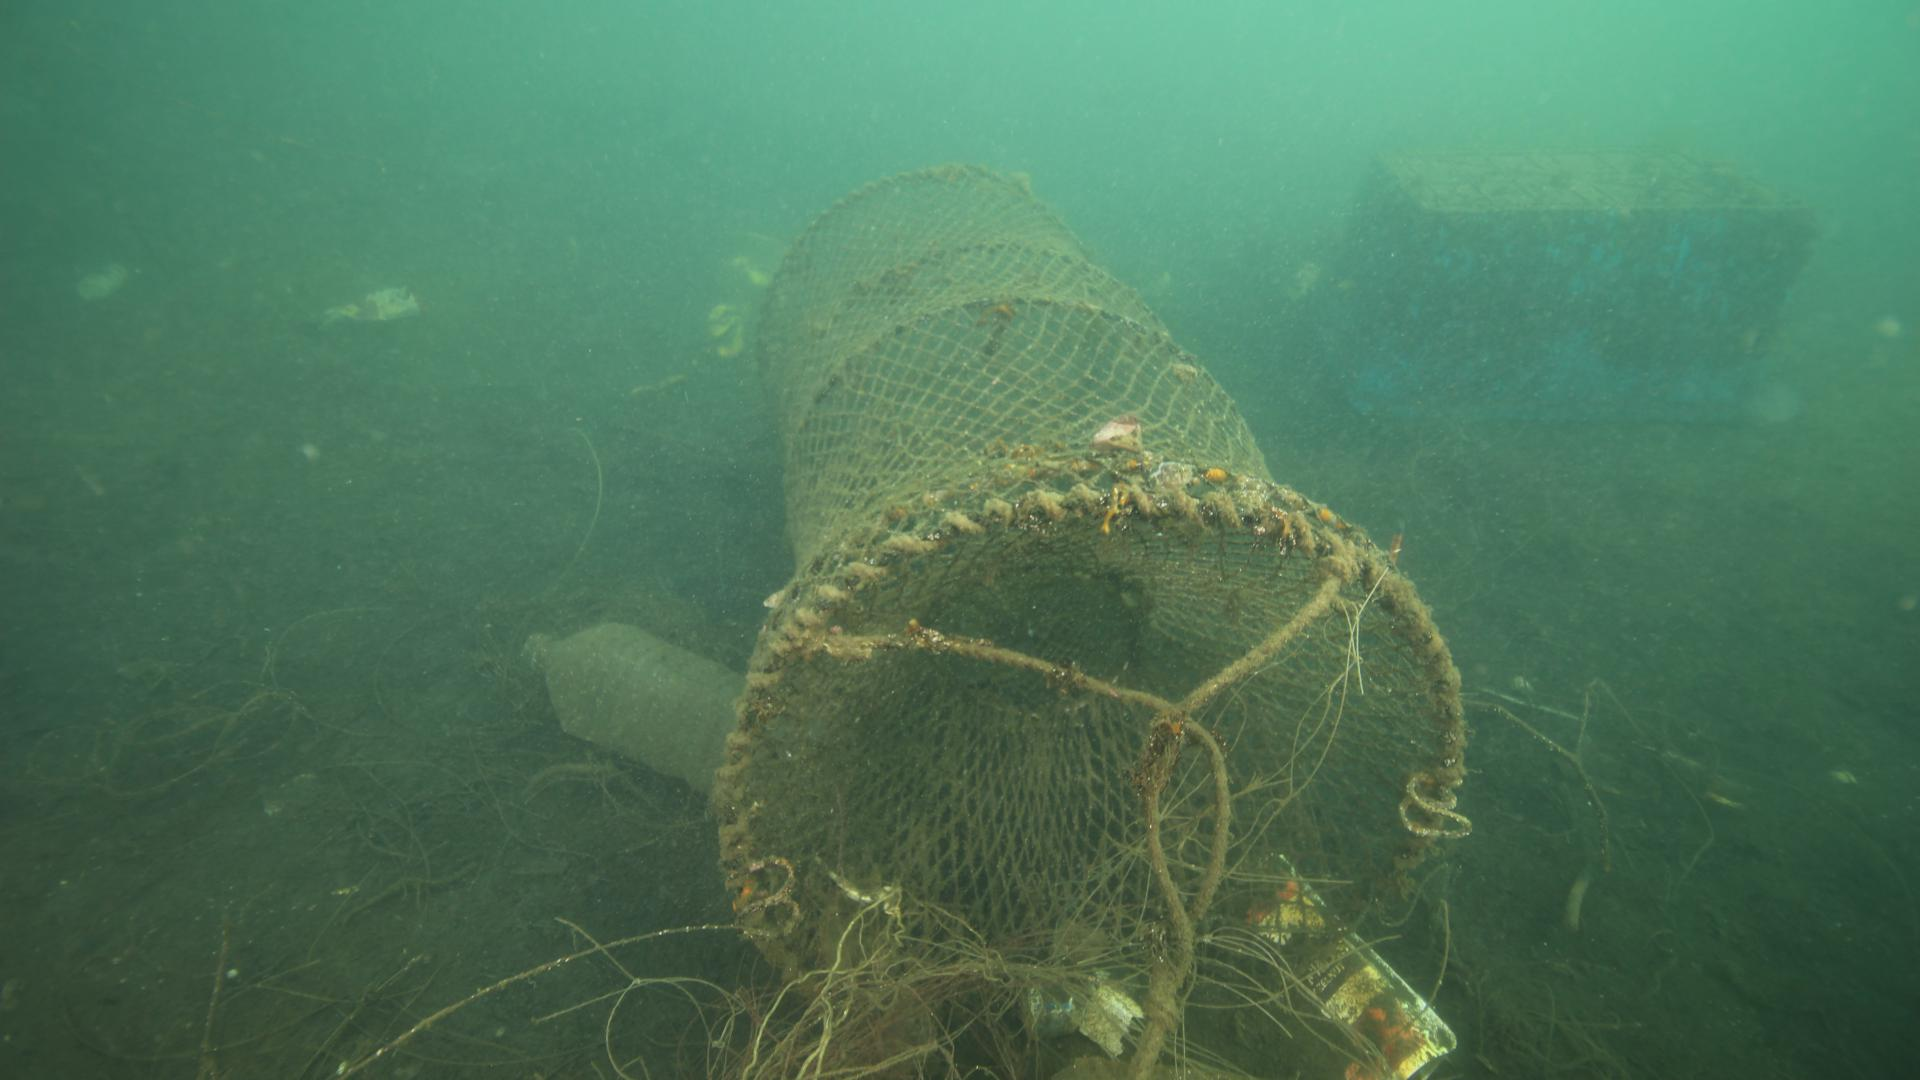spring fish trap: (705, 162, 1465, 1011)
